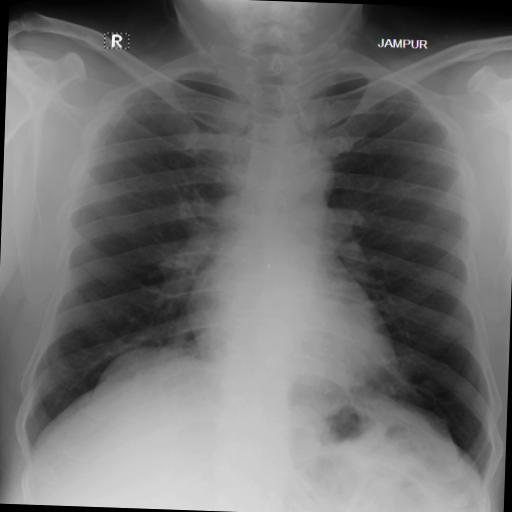normal: (10, 32, 510, 494)
